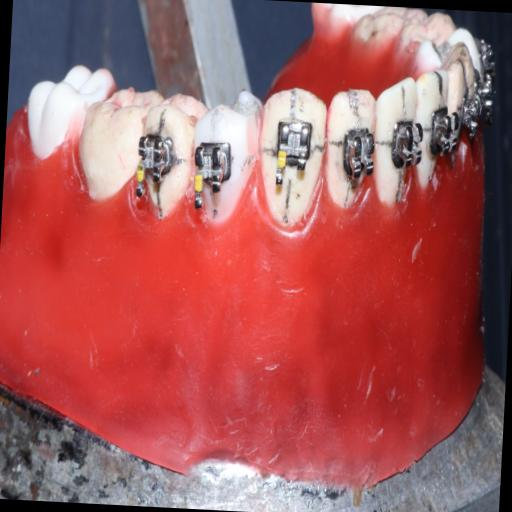incorrect_brace: (270, 112, 318, 192)
